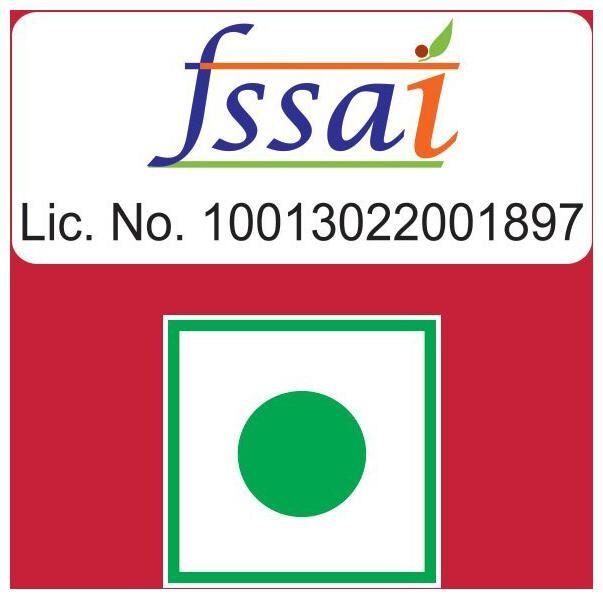fssai: (144, 19, 463, 170)
